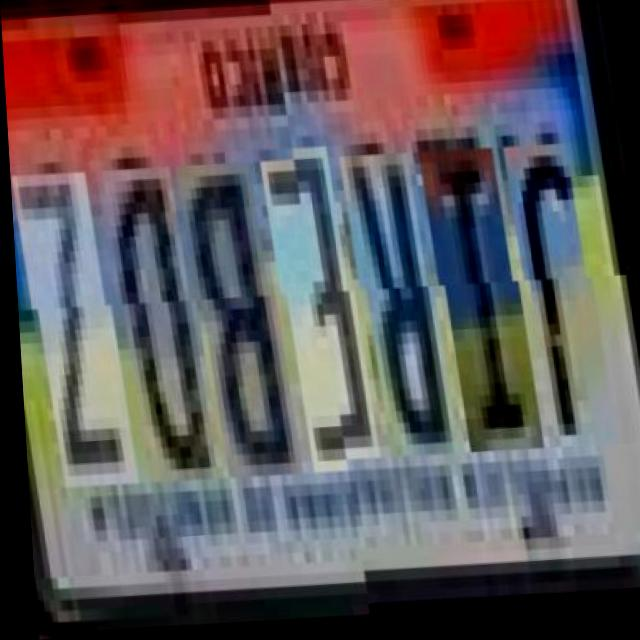b: (181, 153, 293, 474)
d: (102, 157, 215, 476)
e: (266, 149, 373, 469)
i: (426, 153, 537, 462)
j: (510, 150, 610, 459)
r: (346, 157, 451, 466)
z: (17, 160, 130, 481)
